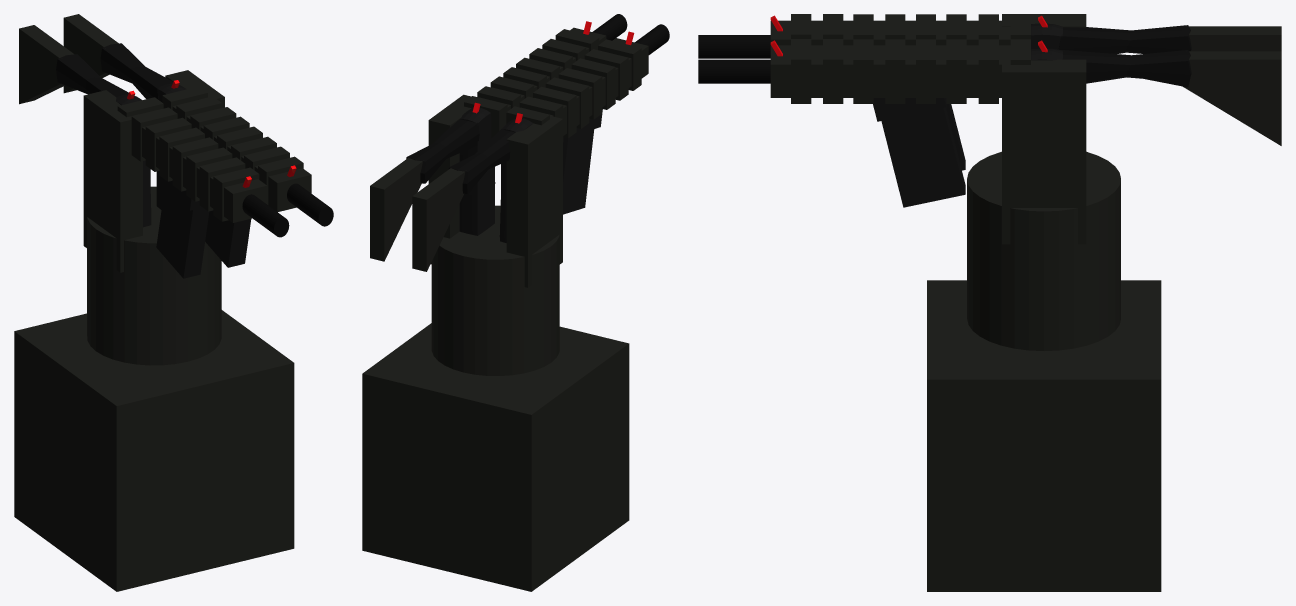
Rendered from Autogeschütz1.1.fbx.
The picture shows the model from 3 angles, left to right: view 1: azimuth 30°, elevation 25°; view 2: azimuth 150°, elevation 25°; view 3: azimuth 270°, elevation 25°; orthographic projection. The views are drawn at different scales.
Parts seen in each view (by area): view 1: Cube, Cylinder, Cube.040, Cube.024, Cube.008, Cube.027, Cube.011, Cube.003, Cube.005, Cube.026, Cube.012, Cube.010 (+20 smaller); view 2: Cube, Cylinder, Cube.040, Cube.008, Cube.003, Cube.004, Cube.024, Cube.011, Cube.026, Cube.039, Cube.027, Cube.028 (+18 smaller); view 3: Cube, Cylinder, Cube.039, Cube.003, Cube.005, Cube.012, Cube.011, Cube.026, Cube.027, Cube.008, Cube.010, Cube.025 (+9 smaller).
Part boxes in pixels (<box>): Cube: <box>14,310,294,591</box>; Cylinder: <box>87,186,221,365</box>; Cube.040: <box>83,90,142,272</box>; Cube.024: <box>156,183,209,278</box>; Cube.008: <box>19,25,73,104</box>; Cube.027: <box>140,109,267,222</box>; Cube.011: <box>100,43,172,99</box>; Cube.003: <box>63,14,118,93</box>; Cube.005: <box>205,210,251,267</box>; Cube.026: <box>56,54,128,97</box>; Cube.012: <box>172,100,311,212</box>; Cube.010: <box>287,183,333,226</box>; Cube: <box>362,323,629,591</box>; Cylinder: <box>431,205,559,375</box>; Cube.040: <box>506,116,562,287</box>; Cube.008: <box>412,168,466,271</box>; Cube.003: <box>370,158,423,261</box>; Cube.004: <box>459,108,495,235</box>; Cube.024: <box>563,129,594,214</box>; Cube.011: <box>406,119,479,183</box>; Cube.026: <box>448,129,515,193</box>; Cube.039: <box>428,94,471,264</box>; Cube.027: <box>521,38,648,135</box>; Cube.028: <box>571,58,615,109</box>; Cube: <box>927,280,1161,591</box>; Cylinder: <box>967,151,1120,350</box>; Cube.039: <box>1002,59,1086,244</box>; Cube.003: <box>1183,51,1281,145</box>; Cube.005: <box>881,107,965,207</box>; Cube.012: <box>770,45,1010,97</box>; Cube.011: <box>1061,50,1191,87</box>; Cube.026: <box>1058,25,1191,53</box>; Cube.027: <box>770,20,1010,45</box>; Cube.008: <box>1186,26,1281,51</box>; Cube.010: <box>698,59,770,83</box>; Cube.025: <box>698,35,770,58</box>.
Bounding box in the file's own units: 304 × 757 × 734.
